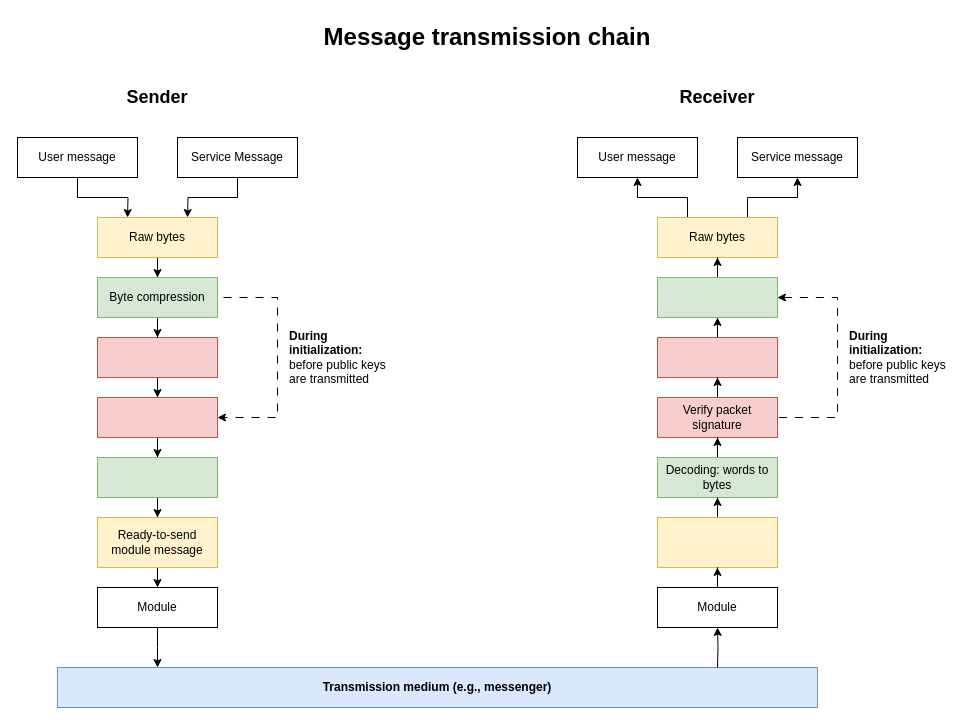
The diagram is 975 pixels wide and 725 high, and some of its shapes have lost their labels. The centre of each missing label's shape, as x and y in pixels:
"Byte decompression" belongs at (x=717, y=297).
"Decryption" belongs at (x=717, y=357).
"Encoding: bytes to words" belongs at (x=157, y=477).
"Encryption" belongs at (x=157, y=357).
"Packet signing" belongs at (x=157, y=417).
"Raw module message" belongs at (x=717, y=542).
